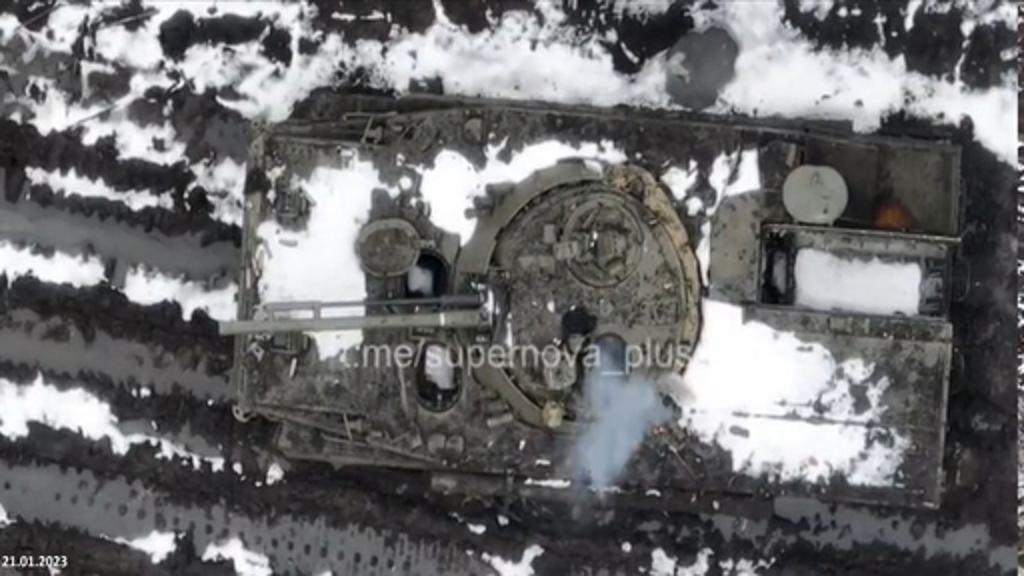APC-IFV: (216, 72, 952, 518)
